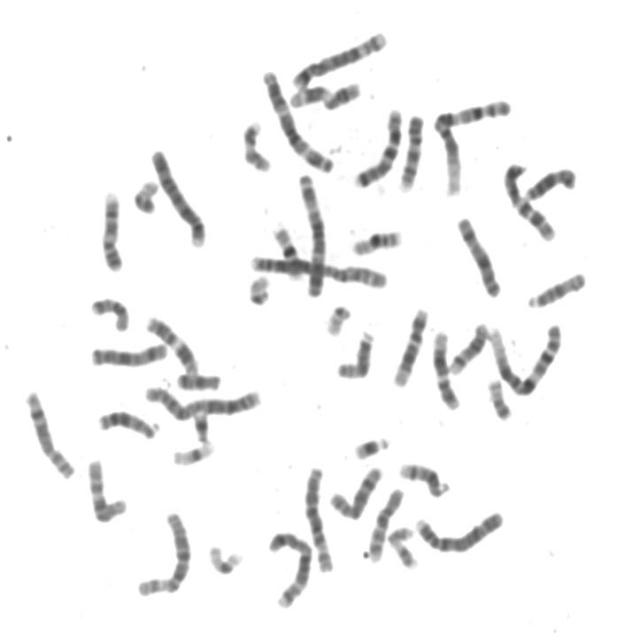A1: (430, 90, 516, 196), (484, 316, 567, 398)
A2: (244, 248, 390, 290), (139, 378, 266, 422)
A3: (258, 62, 338, 174), (292, 166, 329, 299)
B4: (146, 140, 210, 250), (410, 502, 508, 555)
B5: (288, 24, 391, 90), (264, 523, 316, 610)
C10: (364, 481, 407, 564), (83, 451, 131, 524)
C11: (142, 309, 202, 376), (285, 74, 365, 111)
C12: (389, 300, 432, 389), (428, 323, 464, 411)
C6: (133, 504, 195, 598), (300, 459, 338, 574)
C7: (498, 155, 560, 242), (350, 100, 407, 190)
C8: (20, 384, 79, 481), (325, 459, 387, 521)
C9: (96, 182, 128, 273), (394, 106, 427, 194)
D13: (94, 402, 163, 440), (520, 160, 580, 202)
D14: (445, 315, 493, 375), (395, 455, 454, 499)
D15: (523, 264, 591, 310), (332, 323, 378, 381)
E16: (268, 218, 306, 281), (347, 222, 406, 257)
E17: (238, 114, 275, 173), (384, 519, 422, 571)
E18: (87, 289, 133, 333), (172, 365, 225, 393)
F19: (204, 536, 247, 576), (168, 434, 218, 468)
F20: (483, 372, 516, 421), (129, 172, 162, 215)
G21: (350, 428, 394, 462), (188, 404, 213, 443)
G22: (321, 297, 355, 337), (244, 267, 274, 307)
X: (454, 209, 506, 299), (86, 335, 171, 369)
